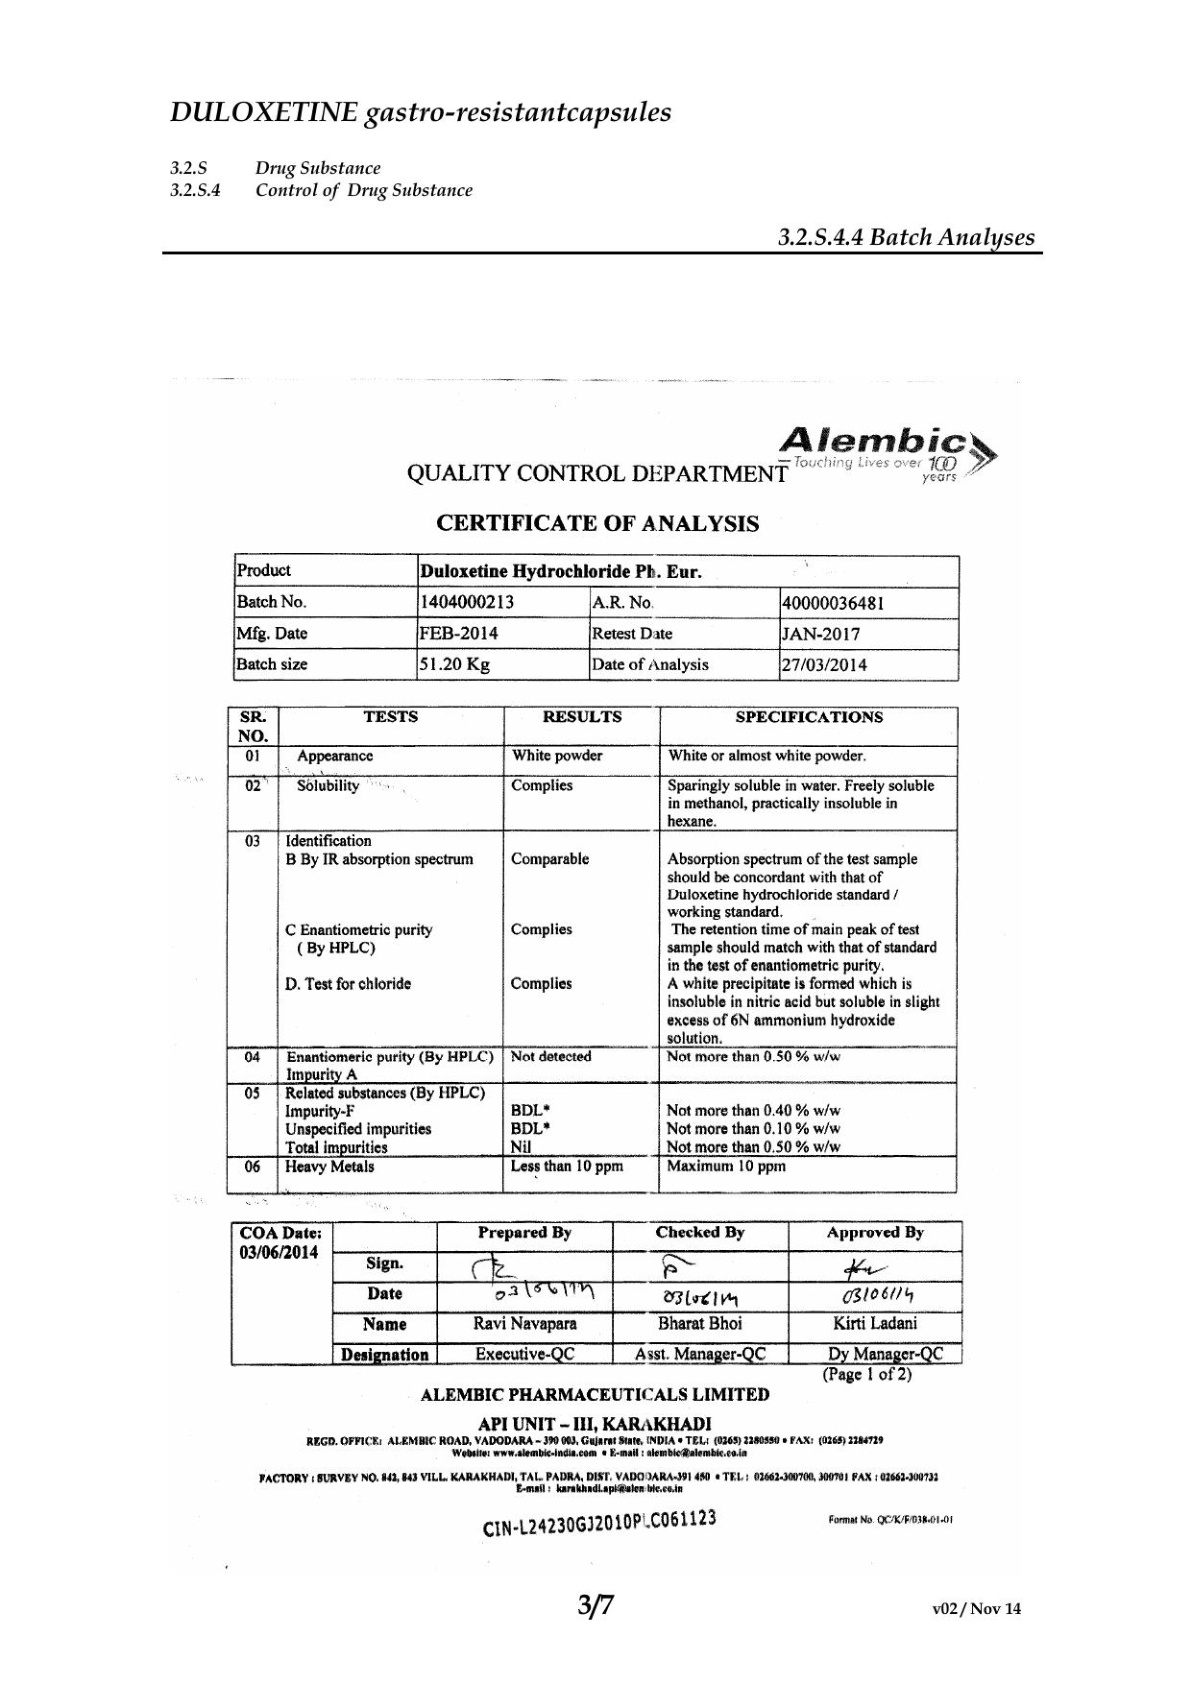full_lined: (226, 707, 960, 1195)
merged_cells: (228, 1220, 962, 1366), (232, 552, 960, 683)
